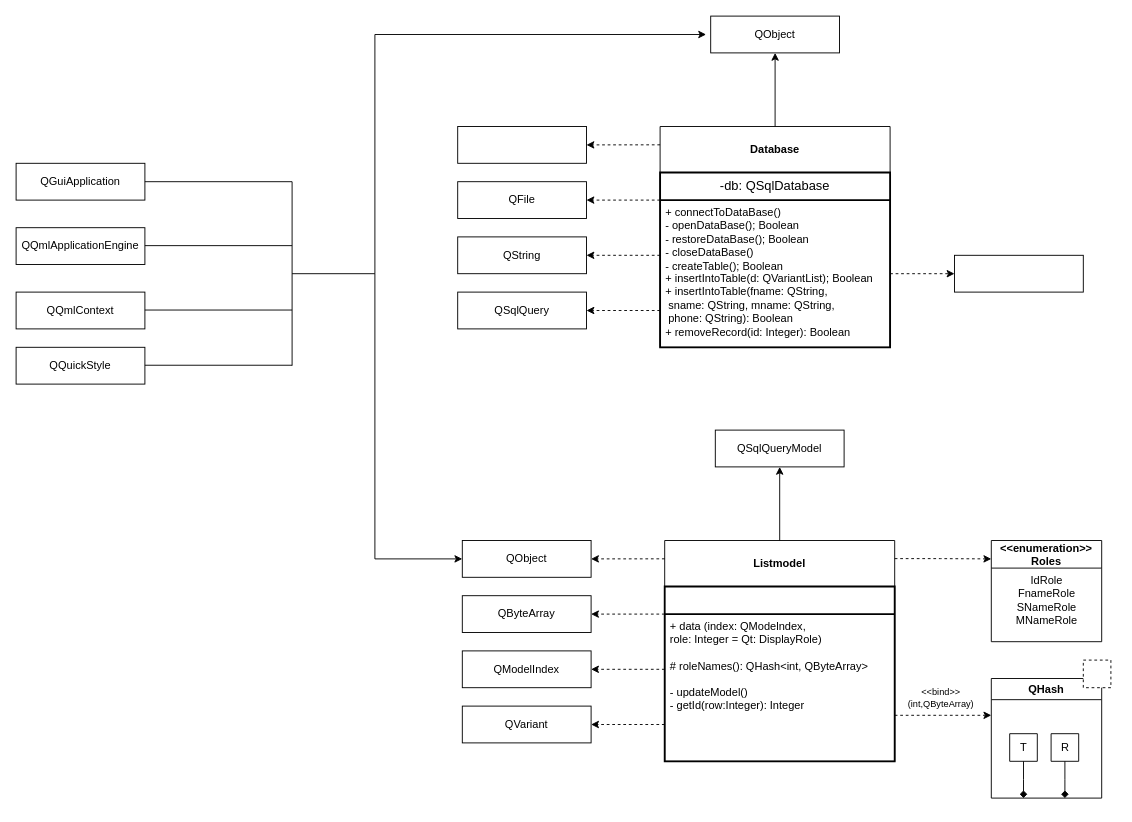
This 1132x822 diagram has some shape labels left out. The centre of each missing label's shape, as x and y in pixels:
"QSqlDataBase" belongs at [521,144].
"QVariantList" belongs at [1018,273].
"T,R" belongs at [1096,673].
